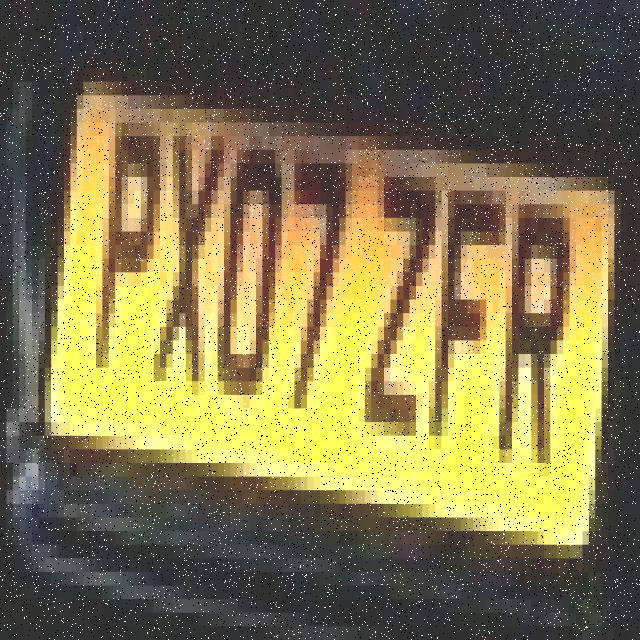licenseplate: (40, 72, 612, 562)
